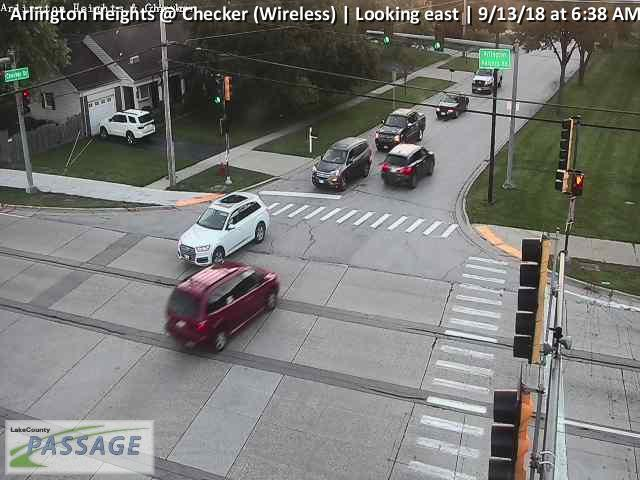Sedan: (163, 260, 281, 354), (175, 191, 270, 266), (310, 135, 373, 192), (380, 142, 436, 189), (375, 108, 426, 151), (97, 108, 156, 144), (434, 90, 469, 118), (472, 63, 503, 93)
